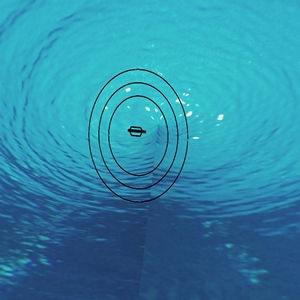circle: (85, 66, 201, 205)
